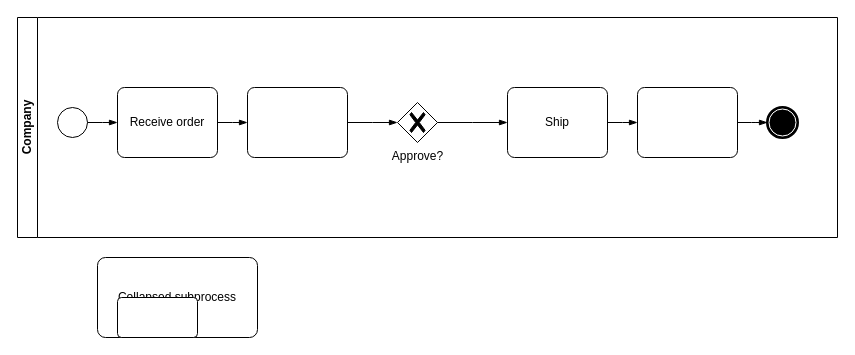
Some shapes in this 855 by 355 pixel diagram are drawn without their labels. Each missing label, with the centre of its shape:
Check credit: the point at 297,122
inner: the point at 157,317
Invoice: the point at 687,122
